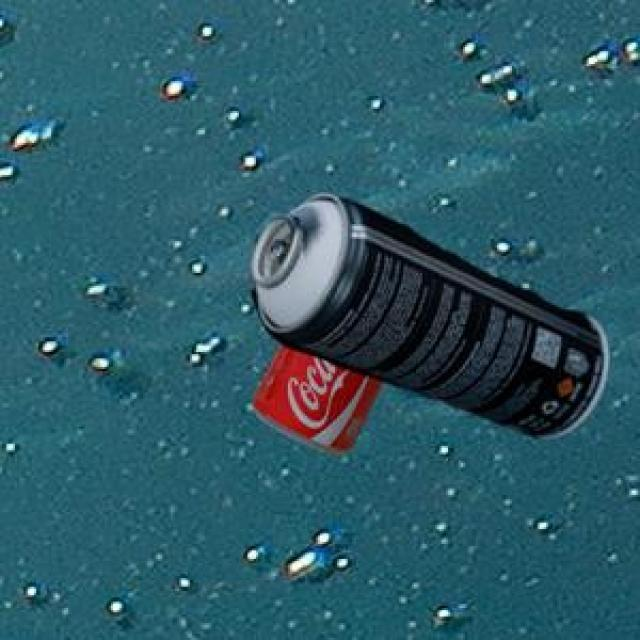Can: (246, 191, 605, 436), (249, 340, 381, 451)
